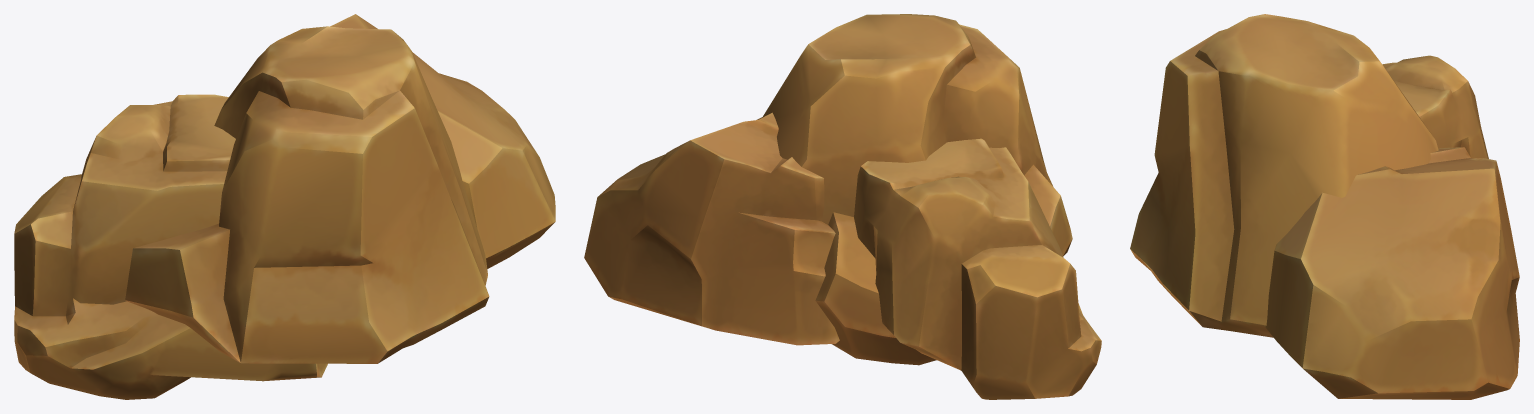
The model's file is plateau_desert.gltf.
3 renders of one model, left to right at view 1: azimuth 30°, elevation 25°; view 2: azimuth 150°, elevation 25°; view 3: azimuth 270°, elevation 25°, orthographic. The views are drawn at different scales.
Parts seen in each view (by area): view 1: plateau_desert; view 2: plateau_desert; view 3: plateau_desert.
Part boxes in pixels (<box>): plateau_desert: <box>14,14,555,399</box>; plateau_desert: <box>584,14,1101,399</box>; plateau_desert: <box>1130,14,1519,399</box>.
Bounding box in the file's own units: 12.39 × 6.98 × 8.33.
Materials: 3 (3 with a texture image).
